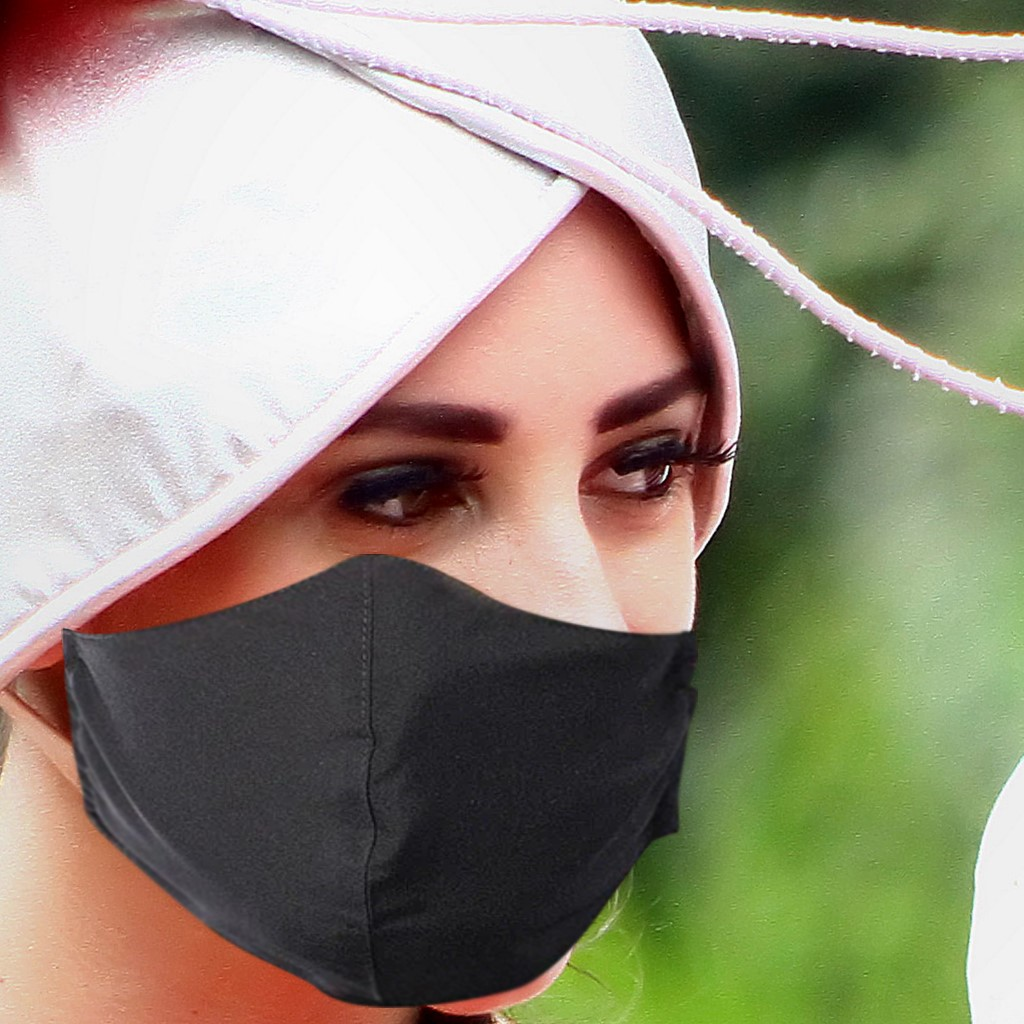con_mascara: (60, 37, 711, 989)
